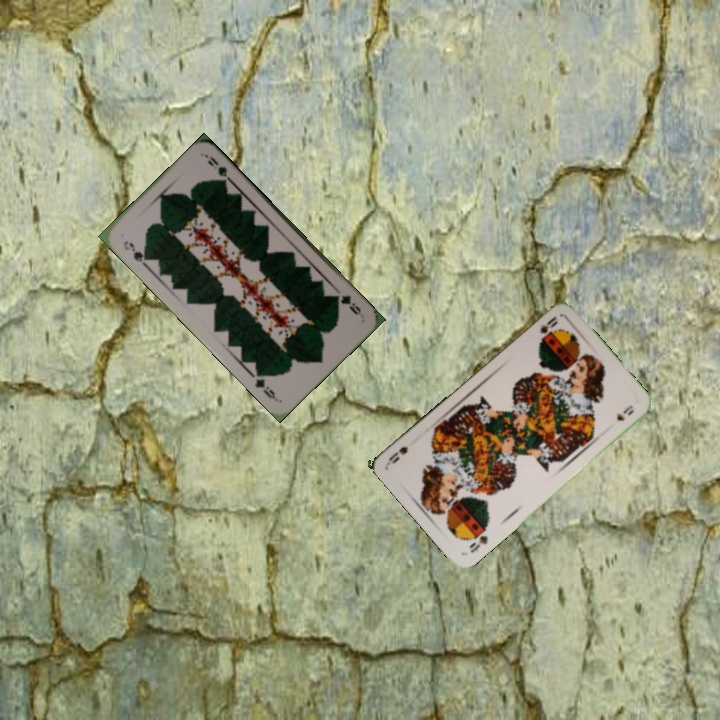G9: (119, 236, 152, 268), (330, 291, 364, 318)
SO: (465, 525, 490, 556), (536, 312, 560, 342)
